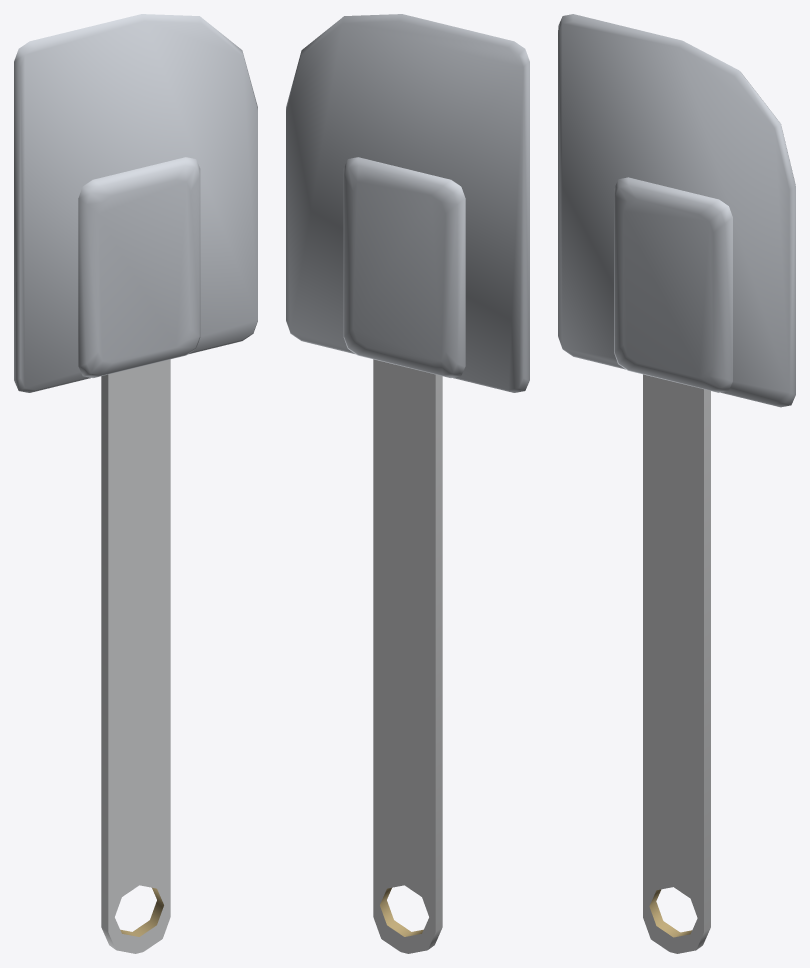
Rendered from cutensils_rubber_spatula_w_hole_white.glb.
3 views of the same model, side by side, from view 1: azimuth 30°, elevation 25°; view 2: azimuth 150°, elevation 25°; view 3: azimuth 330°, elevation 25° (orthographic). The views are drawn at different scales.
Parts seen in each view (by area): view 1: cutensils rubber spatula w/hole white; view 2: cutensils rubber spatula w/hole white; view 3: cutensils rubber spatula w/hole white.
Part boxes in pixels (x1,y1,x2,y2): cutensils rubber spatula w/hole white: (14,14,257,953); cutensils rubber spatula w/hole white: (286,14,529,953); cutensils rubber spatula w/hole white: (558,14,795,953).
Size of the model in its own units: 1.88 by 6.9 by 0.2312.
1 material, 1 textured.
